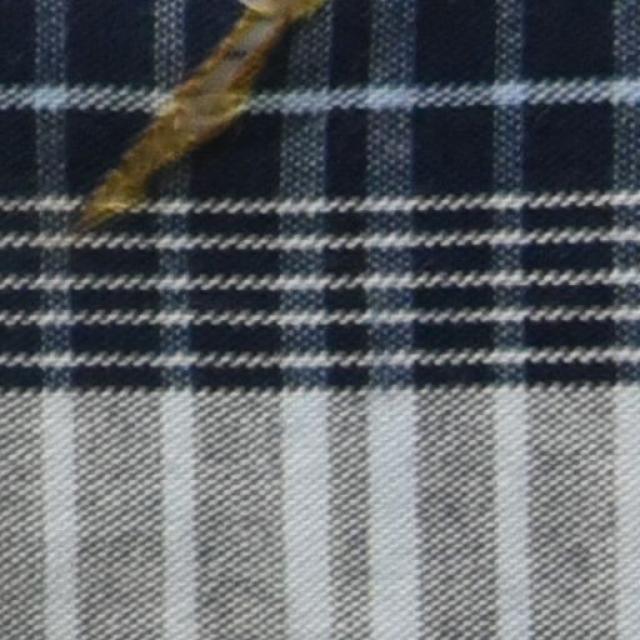Hole: (191, 15, 270, 106)
Stain: (73, 0, 332, 234)
